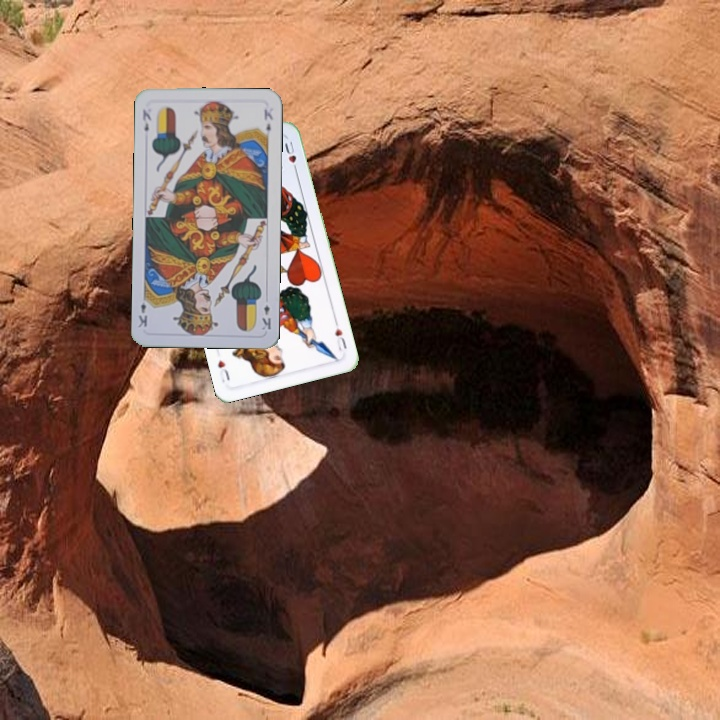EK: (258, 300, 273, 332), (139, 105, 154, 134)
HU: (331, 316, 349, 353)
